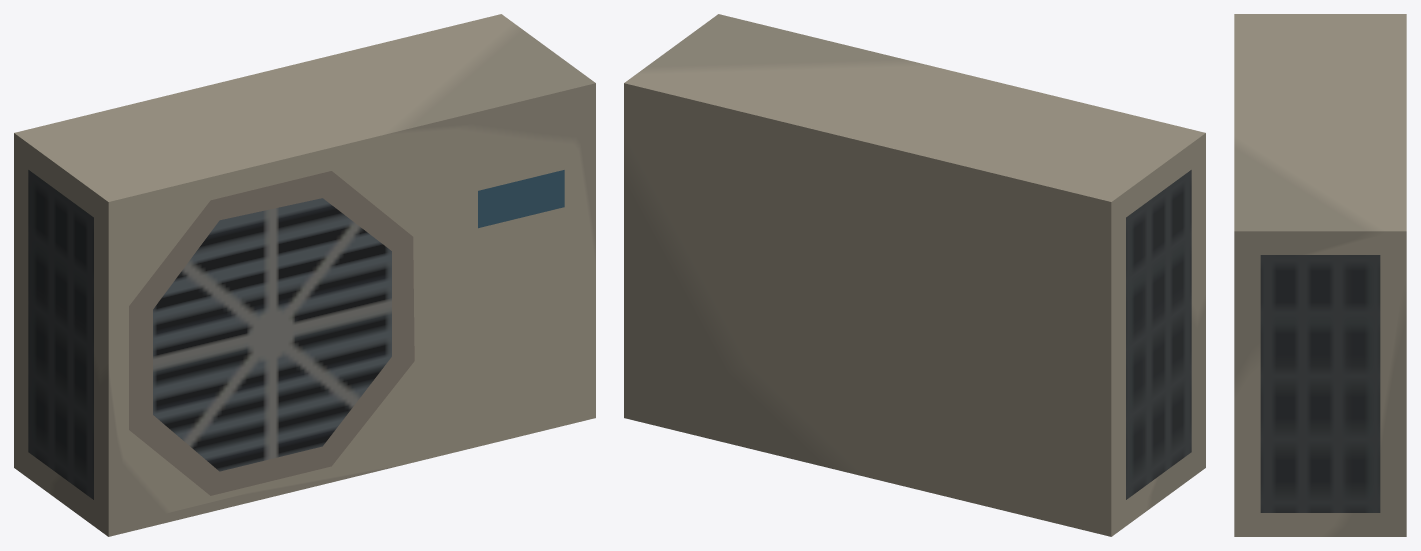
Rendered from SM_Prop_Airconditioner_Optimized_02.glb.
The picture shows the model from 3 angles, left to right: view 1: azimuth 30°, elevation 25°; view 2: azimuth 150°, elevation 25°; view 3: azimuth 270°, elevation 25°; orthographic projection. The views are drawn at different scales.
Visible parts, largest first — view 1: SM_Prop_Airconditioner_Optimized_02; view 2: SM_Prop_Airconditioner_Optimized_02; view 3: SM_Prop_Airconditioner_Optimized_02.
Boxes of the visible parts, bbox=[...] form: SM_Prop_Airconditioner_Optimized_02: bbox=[14, 14, 595, 536]; SM_Prop_Airconditioner_Optimized_02: bbox=[624, 14, 1205, 536]; SM_Prop_Airconditioner_Optimized_02: bbox=[1234, 14, 1406, 536].
Bounding box in the file's own units: 1.07 × 0.7052 × 0.3607.
Materials: 1 (1 with a texture image).
